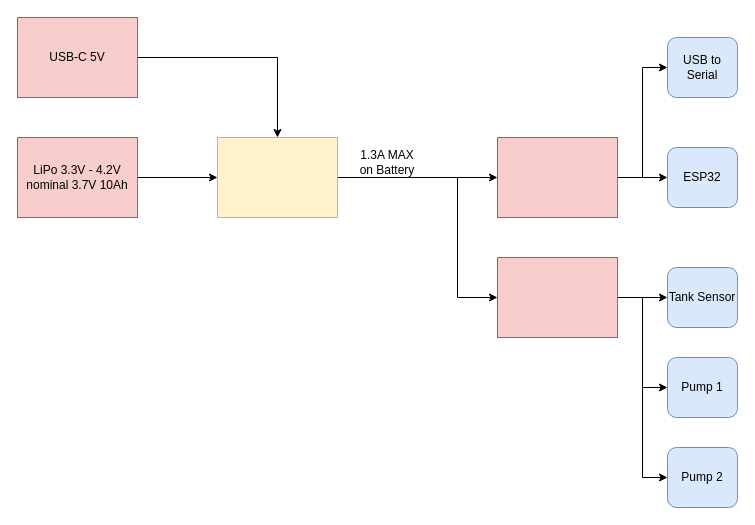
This 755x525 diagram has some shape labels left out. Each missing label, with the centre of its shape:
12V Boost converter: the point at 557,297
3V3 XC6220B331MR Linear Regulator: the point at 557,177
nPM1300 PMIC: the point at 277,177
